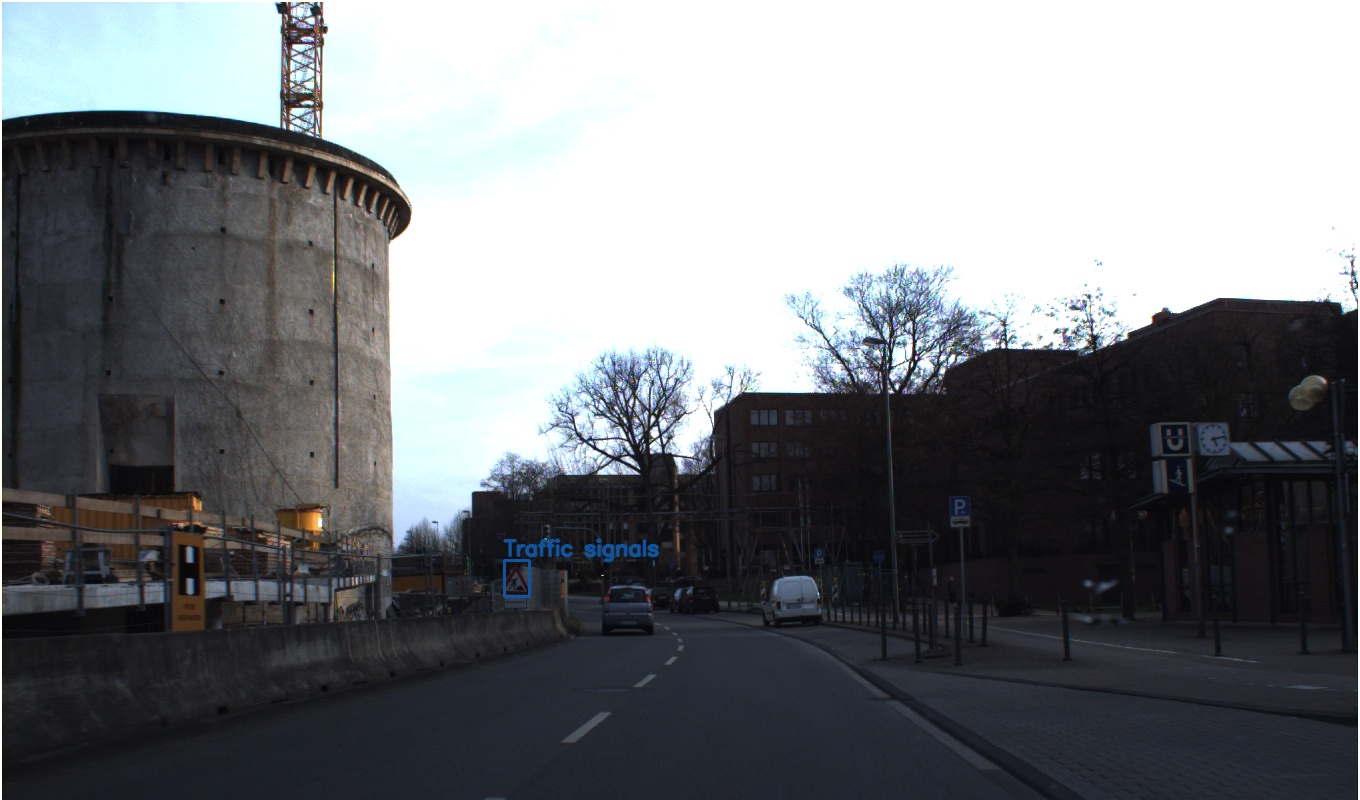Priority road: (1147, 397, 1180, 431)
